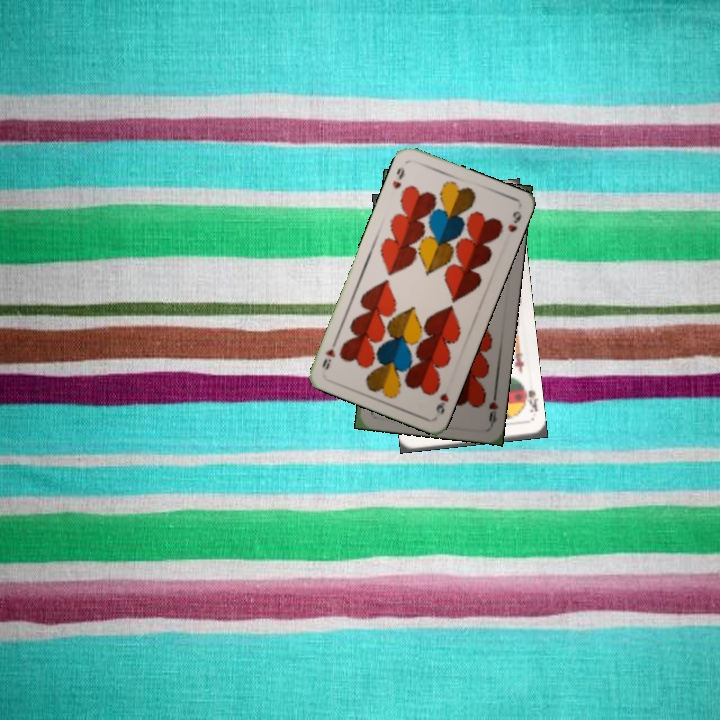H9: (485, 387, 501, 427), (432, 389, 452, 417), (388, 163, 407, 191)
SK: (518, 382, 540, 415)
